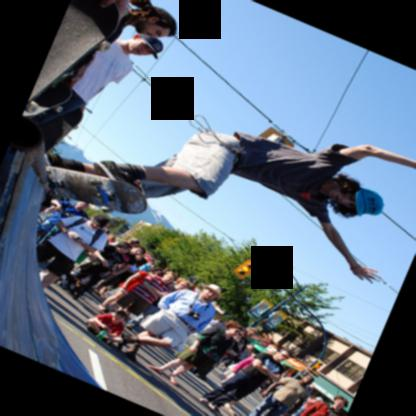backpack: (65, 217, 102, 246)
